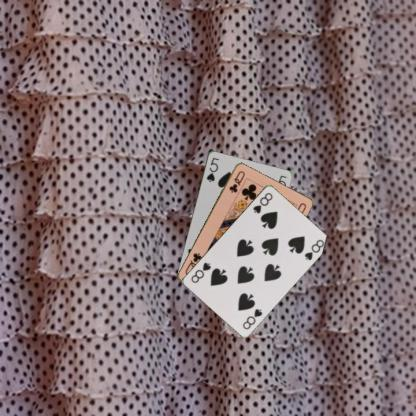5s: (204, 154, 220, 184)
8s: (250, 190, 274, 214), (240, 306, 263, 330)
Qc: (226, 168, 247, 194)
